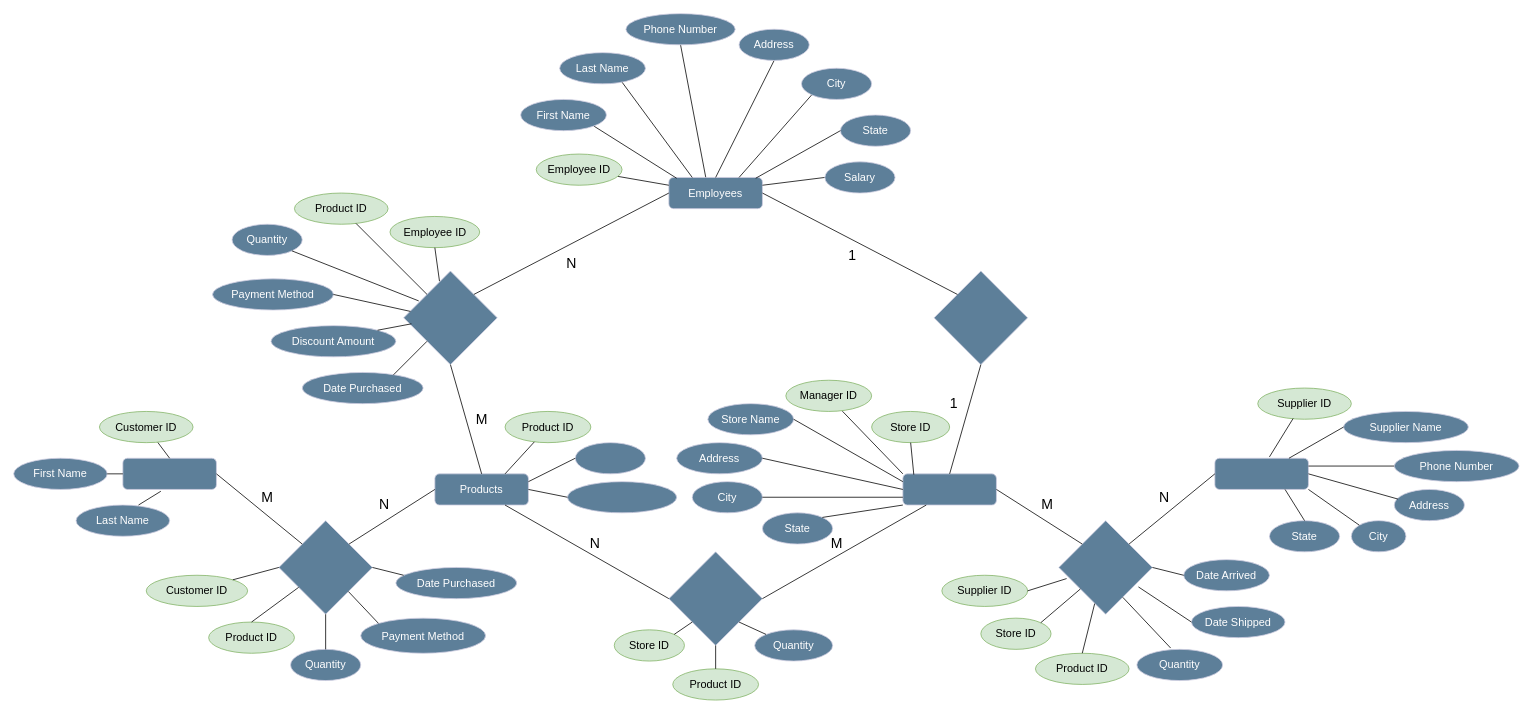
Image size: 1533x714. Some labels were removed from this diagram. The shapes that lost their labels are listed below. From the top down, each one's centre as x and y in pixels, then its label:
At [450,317]: "Employee Purchase Details".
At [980,317]: "Manager Of".
At [169,473]: "Customers".
At [609,458]: "Price".
At [1261,473]: "Suppliers".
At [622,497]: "Product Name".
At [949,489]: "Stores".
At [325,567]: "Customer Purchase Details".
At [1105,567]: "Shipping Details".
At [715,598]: "Inventory Details".
